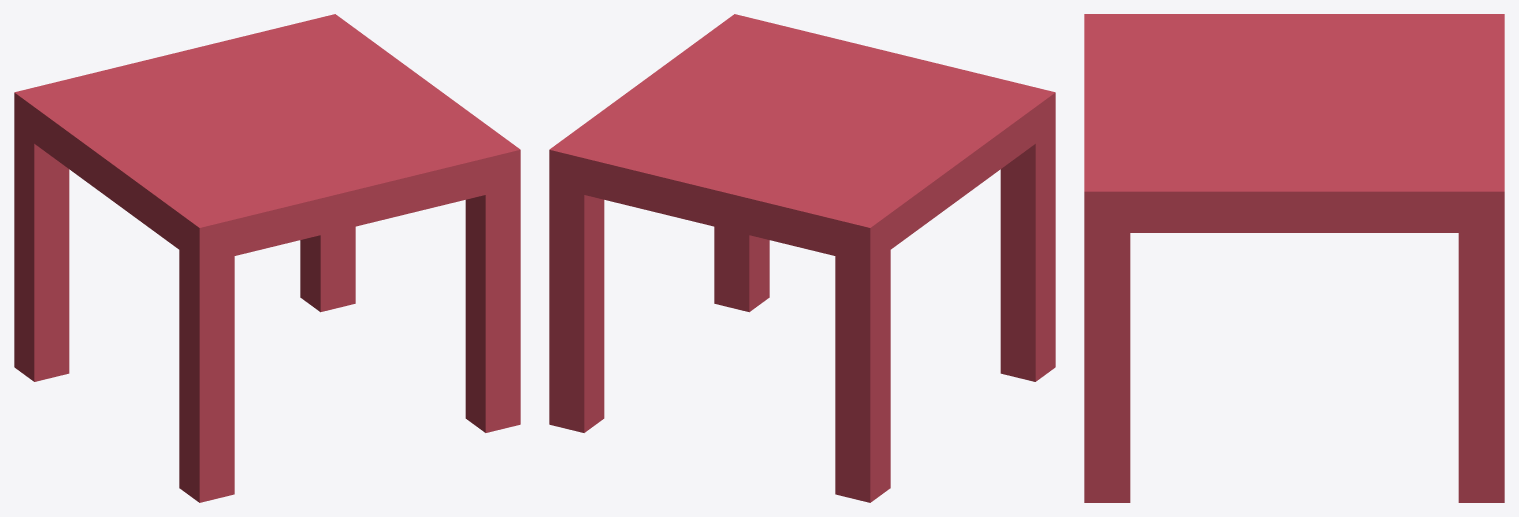
Rendered from table.glb.
3 views of the same model, side by side, from view 1: azimuth 30°, elevation 25°; view 2: azimuth 150°, elevation 25°; view 3: azimuth 270°, elevation 25° (orthographic). The views are drawn at different scales.
Visible parts, largest first — view 1: Mesh_Mesh_head_geo.001_lambert2SG.001; view 2: Mesh_Mesh_head_geo.001_lambert2SG.001; view 3: Mesh_Mesh_head_geo.001_lambert2SG.001.
Part boxes in pixels (x1=…): Mesh_Mesh_head_geo.001_lambert2SG.001: x1=14, y1=14, x2=520, y2=502; Mesh_Mesh_head_geo.001_lambert2SG.001: x1=549, y1=14, x2=1055, y2=502; Mesh_Mesh_head_geo.001_lambert2SG.001: x1=1084, y1=14, x2=1504, y2=502.
Bounding box in the file's own units: 55 × 45 × 55.
